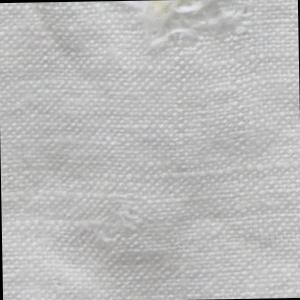Damage: (120, 1, 259, 61), (76, 198, 147, 251)
Wrinkle: (16, 2, 116, 113)
